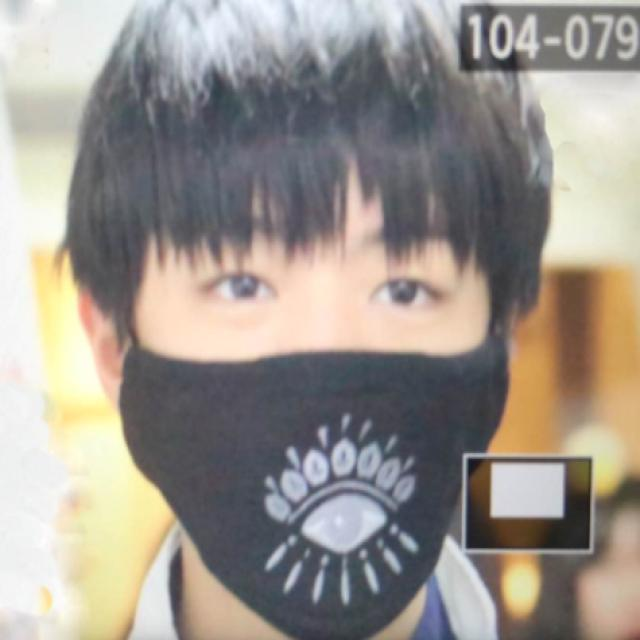mask: (132, 122, 496, 632)
